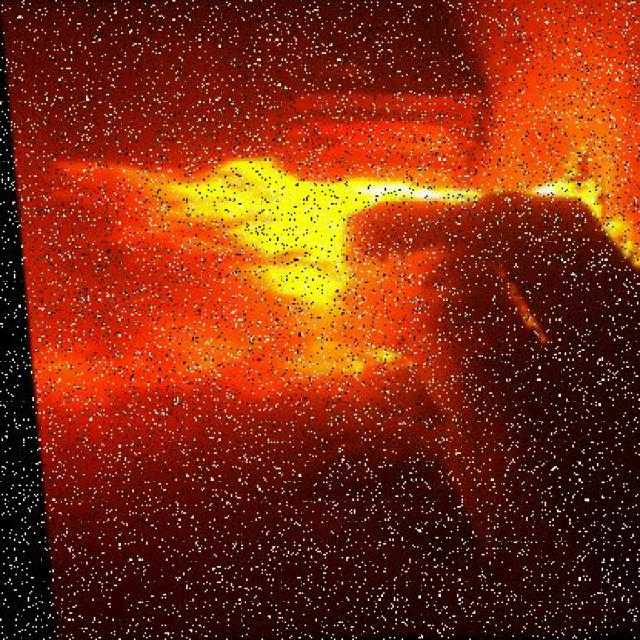fire: (44, 147, 618, 307)
